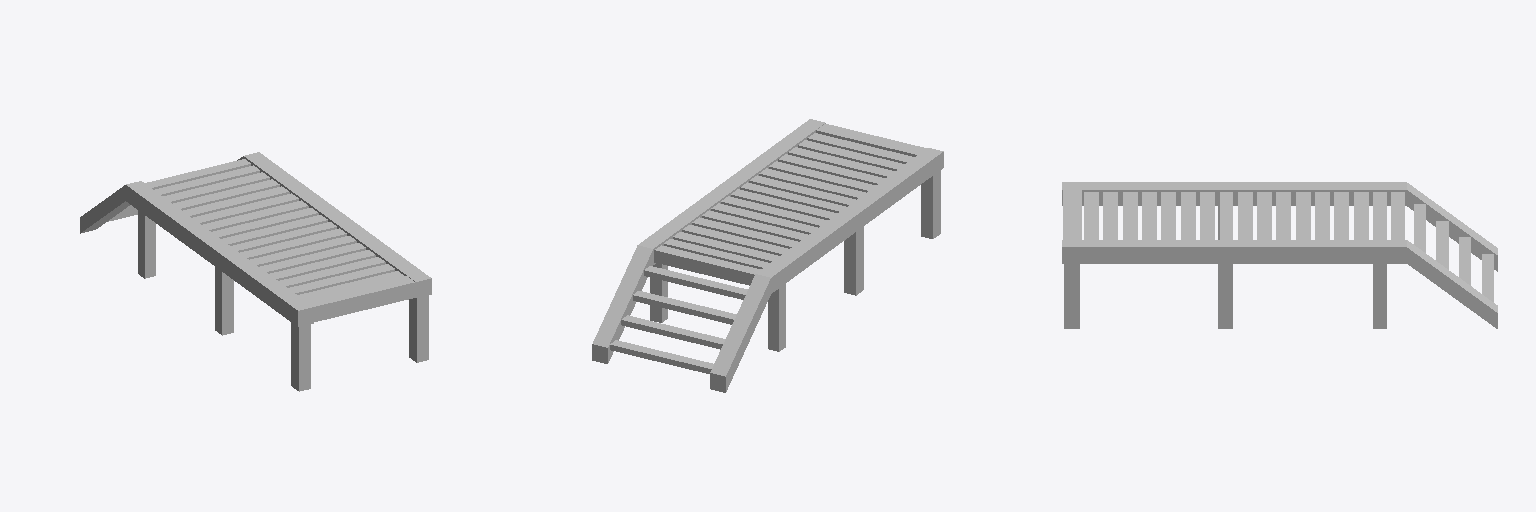
File: Dock.obj
The picture shows the model from 3 angles: view 1: azimuth 30°, elevation 25°; view 2: azimuth 150°, elevation 25°; view 3: azimuth 270°, elevation 25°; orthographic projection.
Visible parts, largest first — view 1: Dock_Cube; view 2: Dock_Cube; view 3: Dock_Cube.
Part boxes in pixels (bbox=[...]): Dock_Cube: bbox=[80, 152, 431, 391]; Dock_Cube: bbox=[592, 119, 943, 392]; Dock_Cube: bbox=[1062, 182, 1497, 328].
Bounding box in the file's own units: 3.4 × 2 × 9.61.